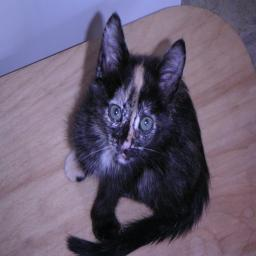catnose: (118, 132, 136, 151)
